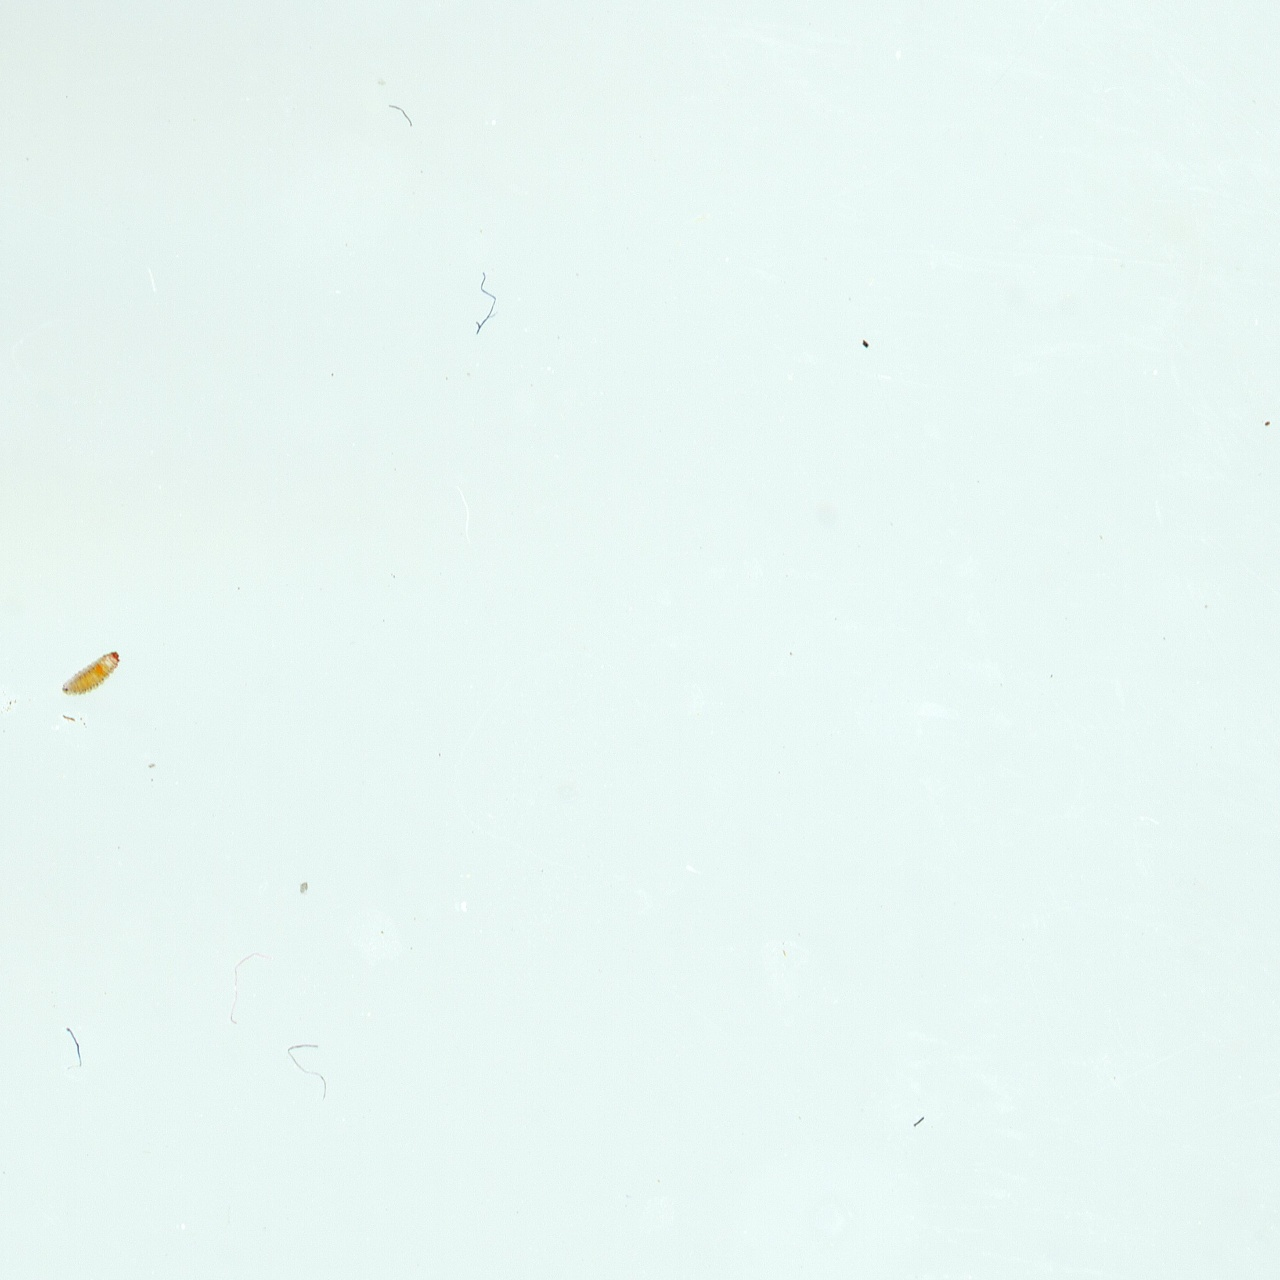arthropod: (62, 651, 121, 696)
